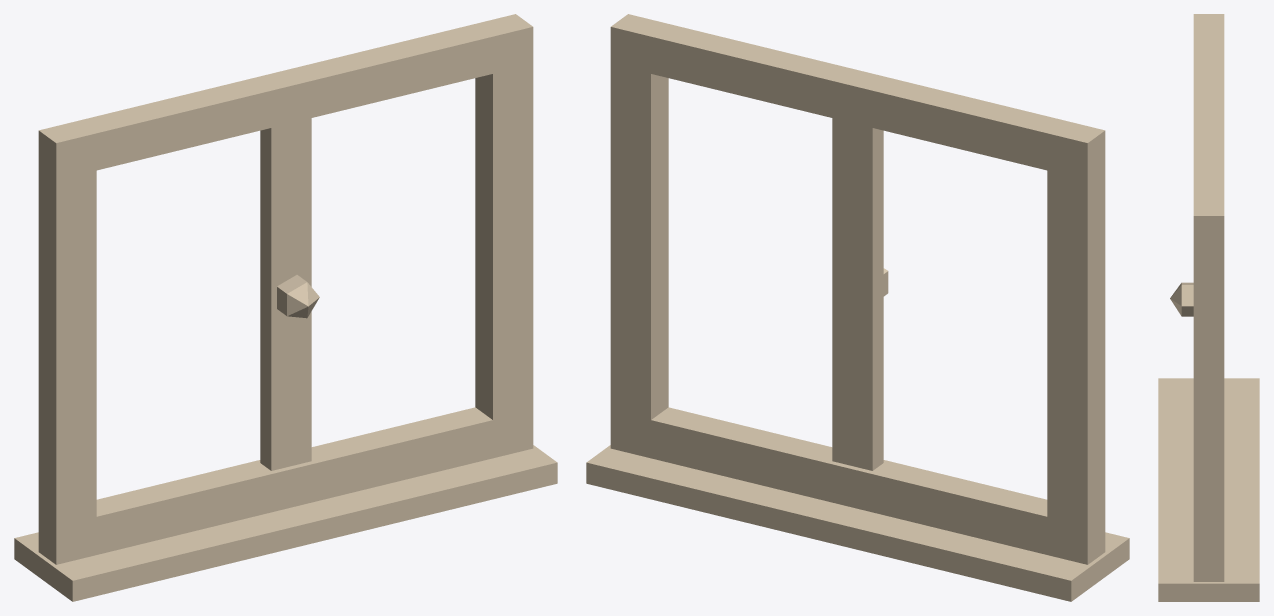
Rendered from Window_1E.fbx.
3 renders of one model, left to right at view 1: azimuth 30°, elevation 25°; view 2: azimuth 150°, elevation 25°; view 3: azimuth 270°, elevation 25°, orthographic. The views are drawn at different scales.
Visible parts, largest first — view 1: polySurface1628; view 2: polySurface1628; view 3: polySurface1628.
Boxes of the visible parts, box(x1,y1,x2,y2) form: polySurface1628: box(14, 14, 557, 601); polySurface1628: box(586, 14, 1129, 601); polySurface1628: box(1158, 14, 1259, 601).
Size of the model in its own units: 2.4 by 2.09 by 0.5.
Materials: 1 (1 with a texture image).
